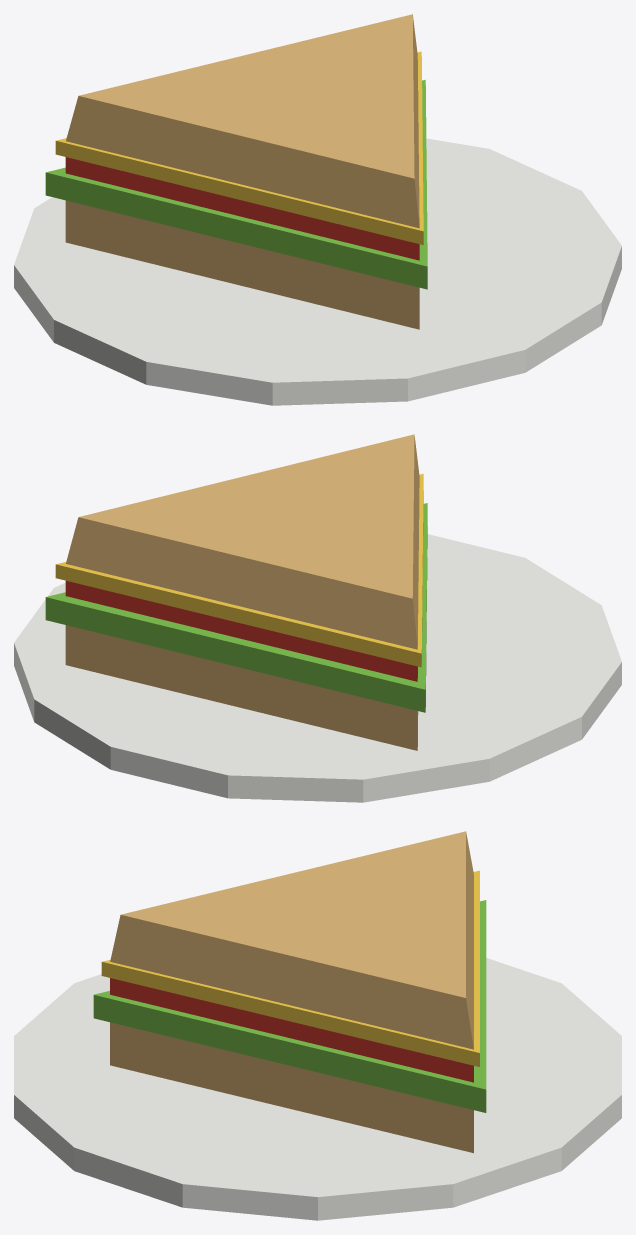
File: sandwich.obj
3 renders of one model, top to bottom at view 1: azimuth 30°, elevation 25°; view 2: azimuth 150°, elevation 25°; view 3: azimuth 270°, elevation 25°, orthographic. The views are drawn at different scales.
Visible parts, largest first — view 1: sandwich; view 2: sandwich; view 3: sandwich.
Part boxes in pixels (x1,y1,x2,y2): sandwich: (14,14,621,405); sandwich: (14,434,621,802); sandwich: (14,831,621,1220).
Bounding box in the file's own units: 0.24 × 0.074 × 0.234.
